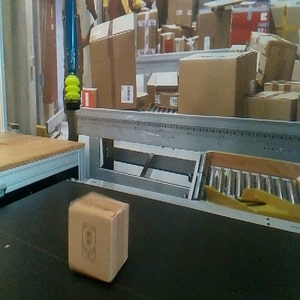box: (67, 190, 130, 283)
